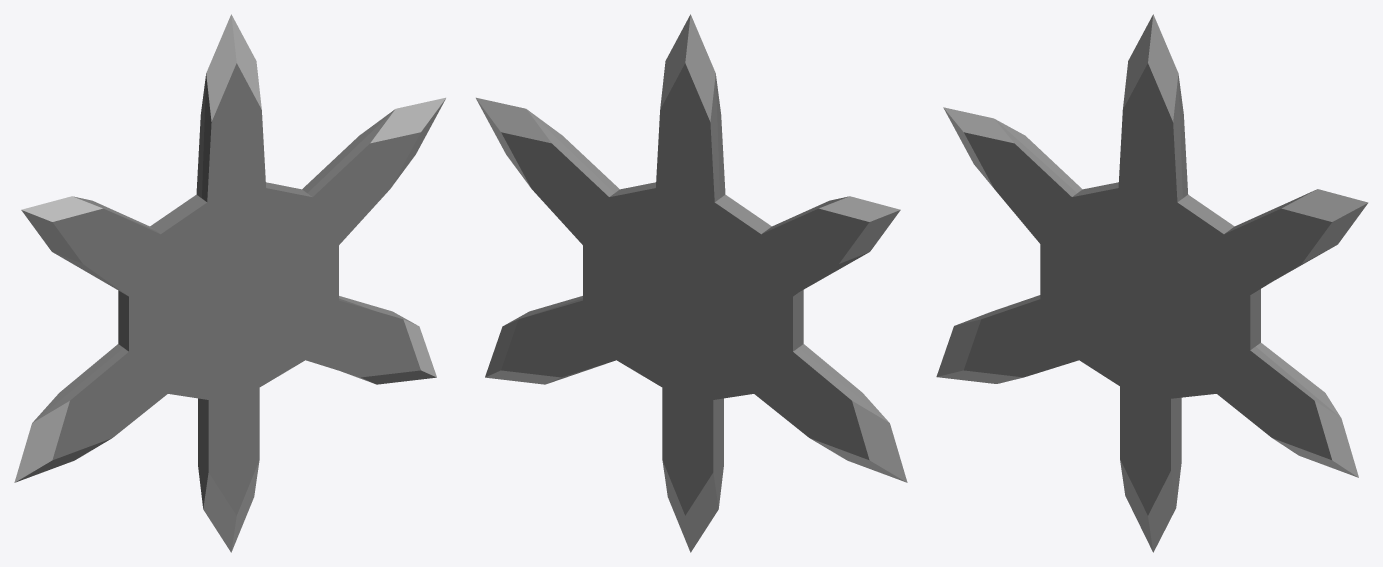
The model's file is Shuriken_2.fbx.
The picture shows the model from 3 angles, left to right: view 1: azimuth 30°, elevation 25°; view 2: azimuth 150°, elevation 25°; view 3: azimuth 330°, elevation 25°; orthographic projection.
Visible parts, largest first — view 1: Circle.001; view 2: Circle.001; view 3: Circle.001.
Boxes of the visible parts, left/top/right/bottom form: Circle.001: left=14, top=14, right=445, bottom=552; Circle.001: left=476, top=14, right=907, bottom=552; Circle.001: left=936, top=14, right=1368, bottom=552.
Bounding box in the file's own units: 8.04 × 9.59 × 0.3465.
